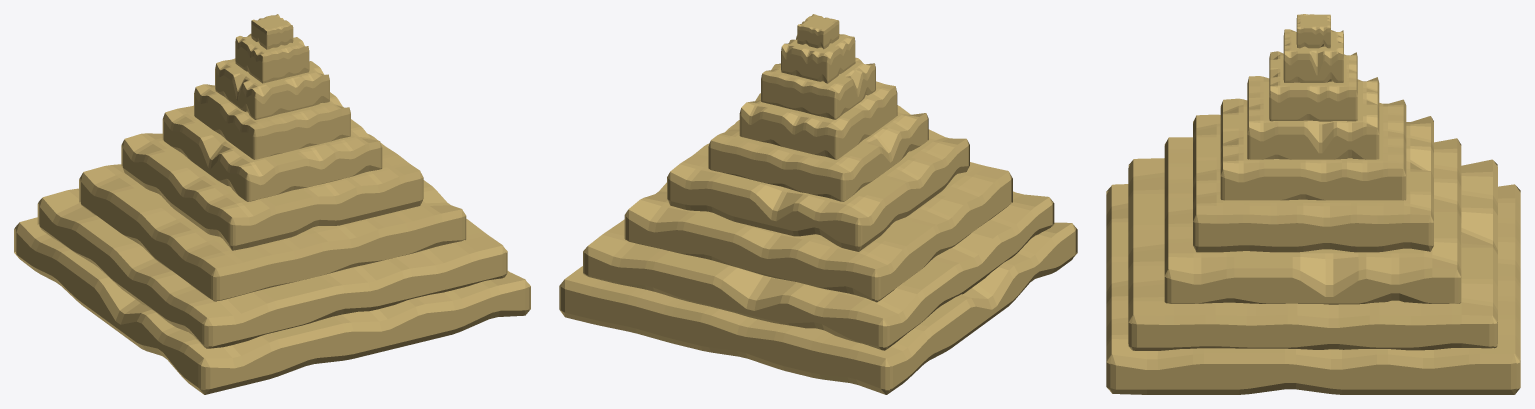
Rendered from OPramit.fbx.
3 views of the same model, side by side, from view 1: azimuth 30°, elevation 25°; view 2: azimuth 150°, elevation 25°; view 3: azimuth 270°, elevation 25° (orthographic). The views are drawn at different scales.
Visible parts, largest first — view 1: Cube.012; view 2: Cube.012; view 3: Cube.012.
Boxes of the visible parts, x1,y1,x2,y2 form: Cube.012: (14,14,530,394); Cube.012: (559,14,1077,394); Cube.012: (1106,14,1520,394).
Bounding box in the file's own units: 71.5 × 55 × 71.5.
